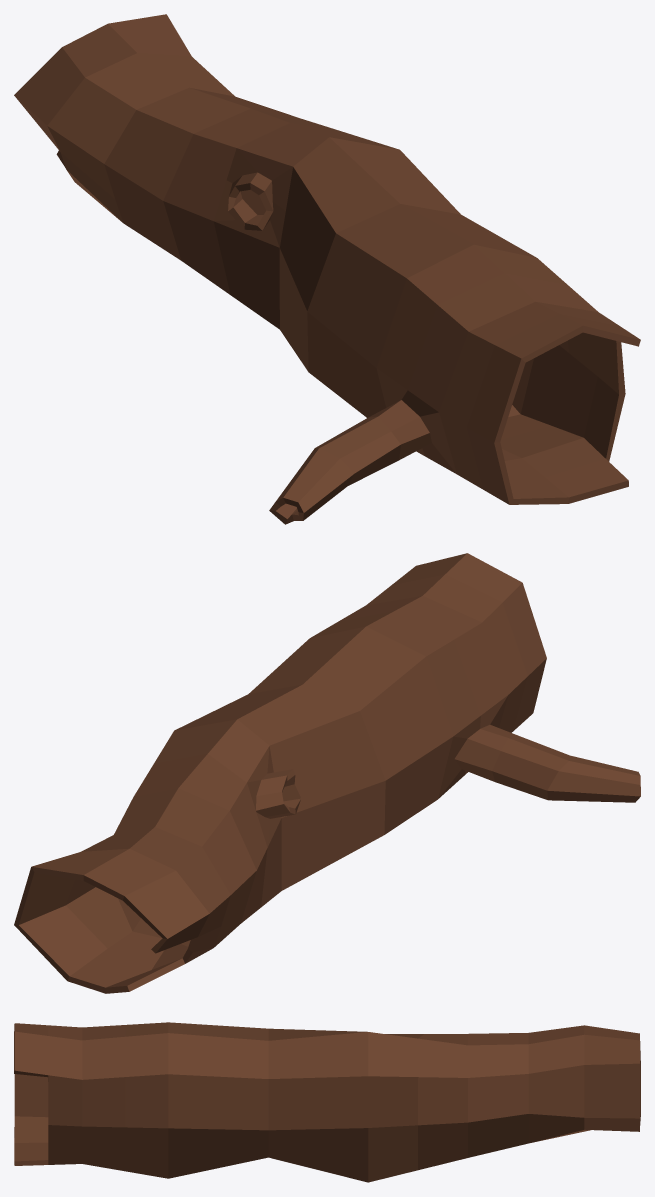
The model's file is Tree_Dead_Trunk.fbx.
The picture shows the model from 3 angles, top to bottom: view 1: azimuth 30°, elevation 25°; view 2: azimuth 150°, elevation 25°; view 3: azimuth 270°, elevation 25°; orthographic projection. The views are drawn at different scales.
Visible parts, largest first — view 1: Tree_Dead_Trunk; view 2: Tree_Dead_Trunk; view 3: Tree_Dead_Trunk.
Part boxes in pixels (x1=…): Tree_Dead_Trunk: x1=14, y1=14, x2=640, y2=524; Tree_Dead_Trunk: x1=14, y1=553, x2=640, y2=993; Tree_Dead_Trunk: x1=14, y1=1022, x2=640, y2=1182.
Bounding box in the file's own units: 0.2664 × 0.1456 × 0.6269.
